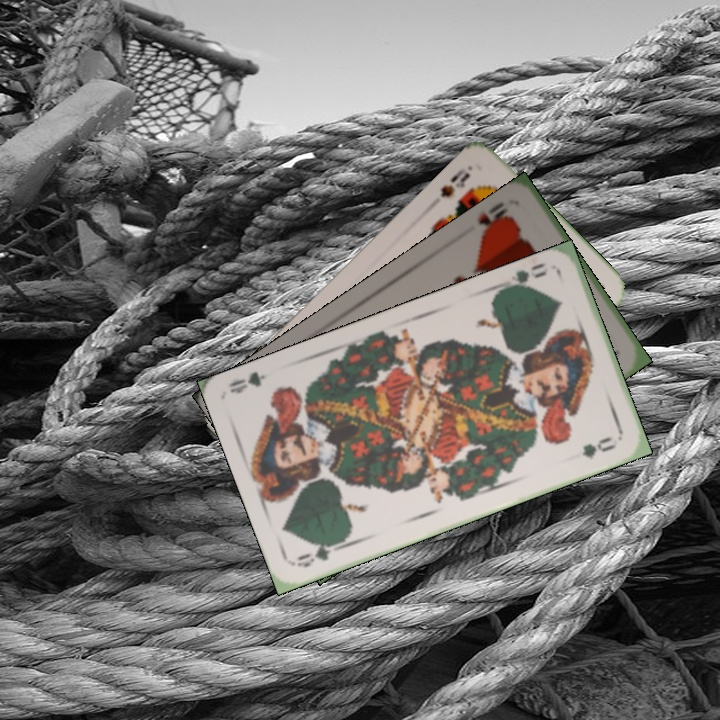GO: (293, 533, 350, 570), (499, 258, 551, 292)
HO: (473, 198, 516, 241)
S8: (436, 164, 473, 200)
